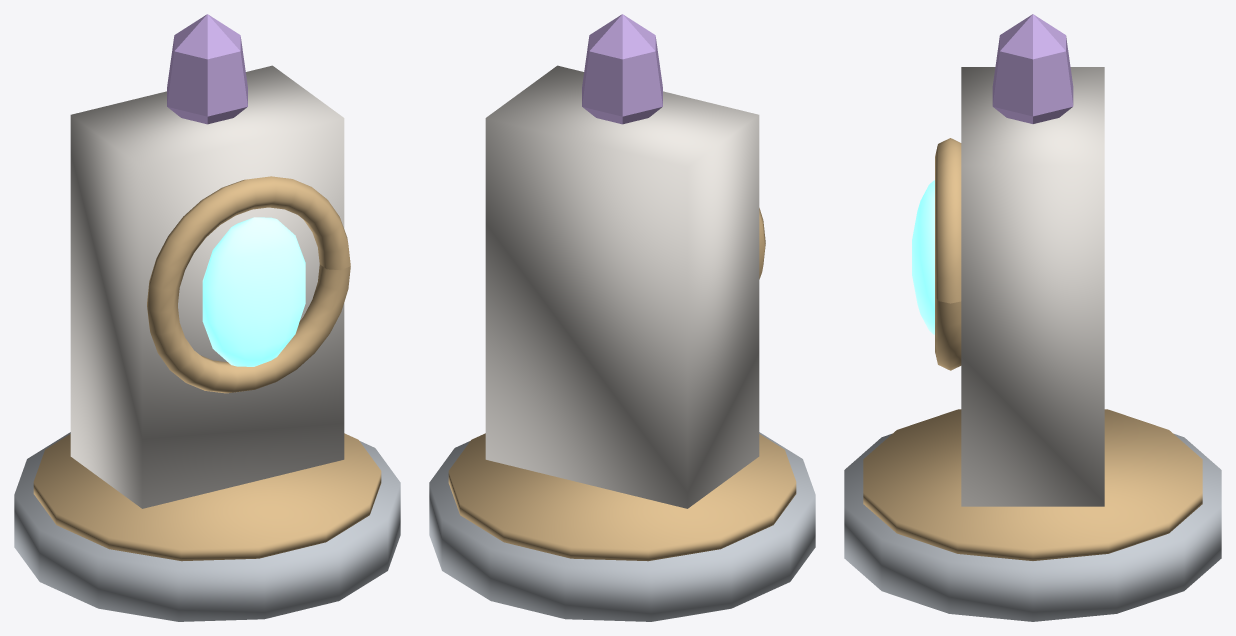
Rendered from int_lyre_lock.glb.
The picture shows the model from 3 angles, left to right: view 1: azimuth 30°, elevation 25°; view 2: azimuth 150°, elevation 25°; view 3: azimuth 270°, elevation 25°; orthographic projection.
Visible parts, largest first — view 1: INT_lyre_lock_body, INT_lyre_lock_base, INT_lyre_lock_gold, INT_lyre_lock_keyhole, INT_lyre_lock_keygem, INT_lyre_lock_crown; view 2: INT_lyre_lock_body, INT_lyre_lock_base, INT_lyre_lock_gold, INT_lyre_lock_crown; view 3: INT_lyre_lock_body, INT_lyre_lock_gold, INT_lyre_lock_base, INT_lyre_lock_crown, INT_lyre_lock_keyhole, INT_lyre_lock_keygem.
Boxes of the visible parts, x1,y1,x2,y2 form: INT_lyre_lock_body: (70,65,344,508); INT_lyre_lock_base: (14,432,400,621); INT_lyre_lock_gold: (33,433,381,561); INT_lyre_lock_keyhole: (147,176,350,393); INT_lyre_lock_keygem: (202,217,305,366); INT_lyre_lock_crown: (167,14,247,124); INT_lyre_lock_body: (485,65,759,508); INT_lyre_lock_base: (429,432,815,621); INT_lyre_lock_gold: (448,433,796,561); INT_lyre_lock_crown: (582,14,662,124); INT_lyre_lock_body: (961,67,1104,506); INT_lyre_lock_gold: (863,409,1202,560); INT_lyre_lock_base: (844,434,1221,621); INT_lyre_lock_crown: (992,14,1073,123); INT_lyre_lock_keyhole: (935,138,961,370); INT_lyre_lock_keygem: (912,180,934,334).
Size of the model in its own units: 1.08 by 1.62 by 1.05.
